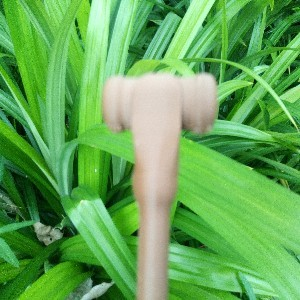palu: (101, 72, 220, 300)
